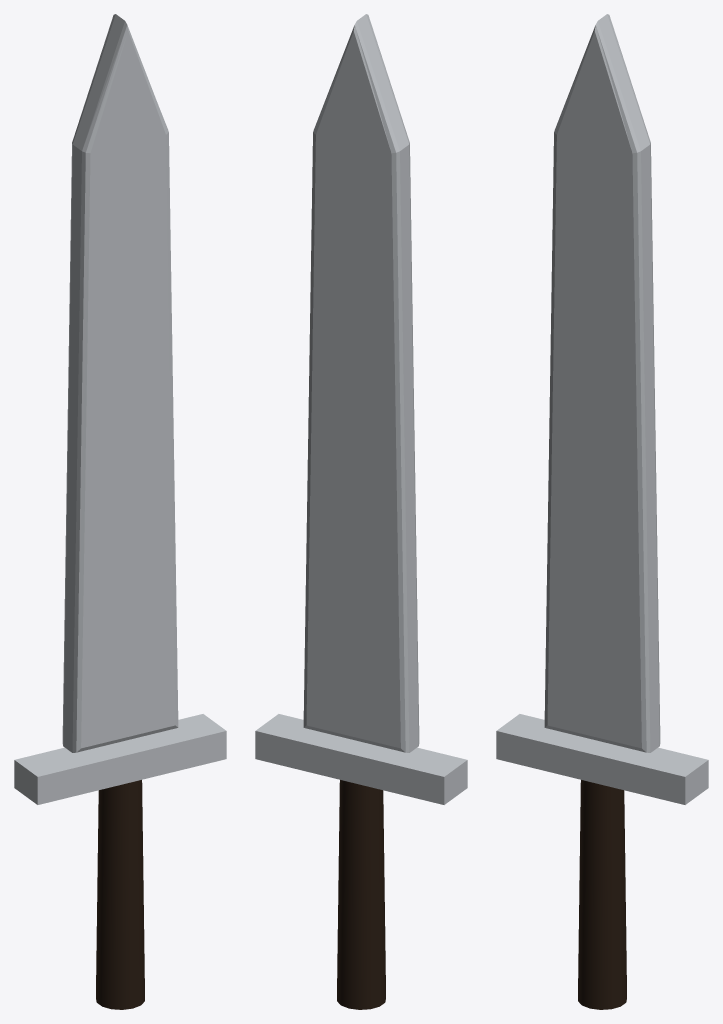
The model's file is iron_sword.glb.
3 views of the same model, side by side, from view 1: azimuth 30°, elevation 25°; view 2: azimuth 150°, elevation 25°; view 3: azimuth 330°, elevation 25° (orthographic).
Visible parts, largest first — view 1: blade, grip, guard; view 2: blade, grip, guard; view 3: blade, grip, guard.
Part boxes in pixels (left/top/right/bottom): blade: left=62, top=14, right=178, bottom=752; grip: left=96, top=780, right=144, bottom=1009; guard: left=14, top=714, right=226, bottom=804; blade: left=303, top=14, right=419, bottom=752; grip: left=337, top=780, right=385, bottom=1009; guard: left=255, top=714, right=467, bottom=804; blade: left=544, top=14, right=660, bottom=752; grip: left=578, top=780, right=626, bottom=1009; guard: left=496, top=714, right=708, bottom=804.
Size of the model in its own units: 0.14 by 0.6957 by 0.032.
